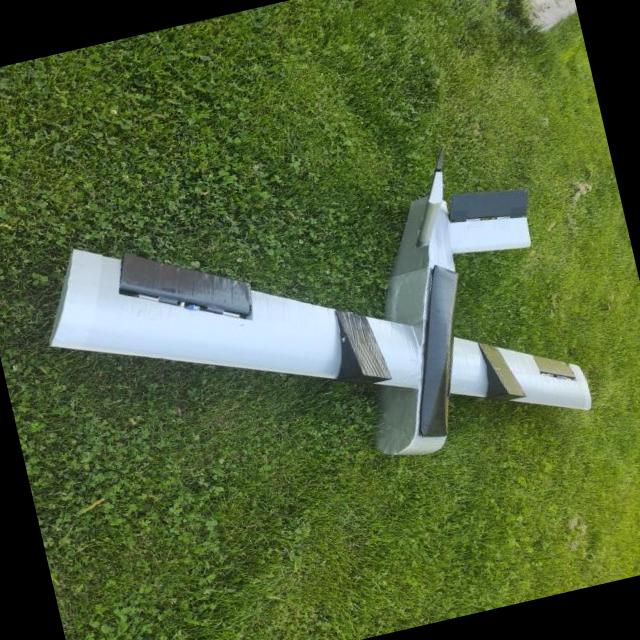UAV: (18, 122, 622, 572)
